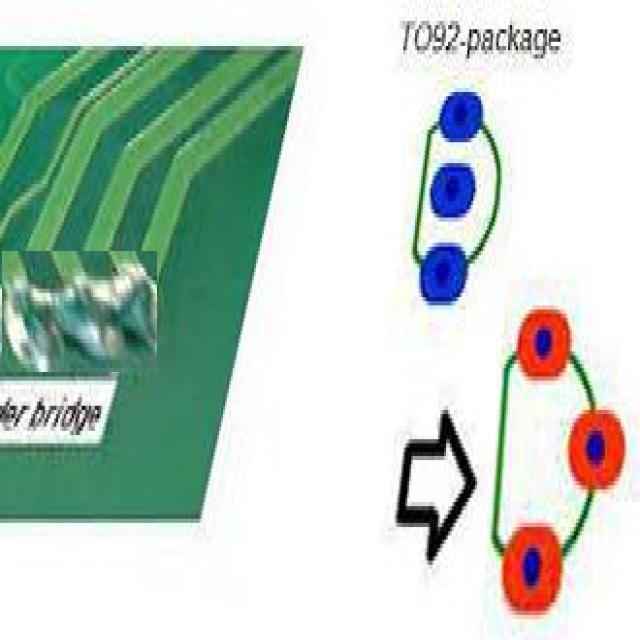Short_circuit: (2, 251, 157, 372)
